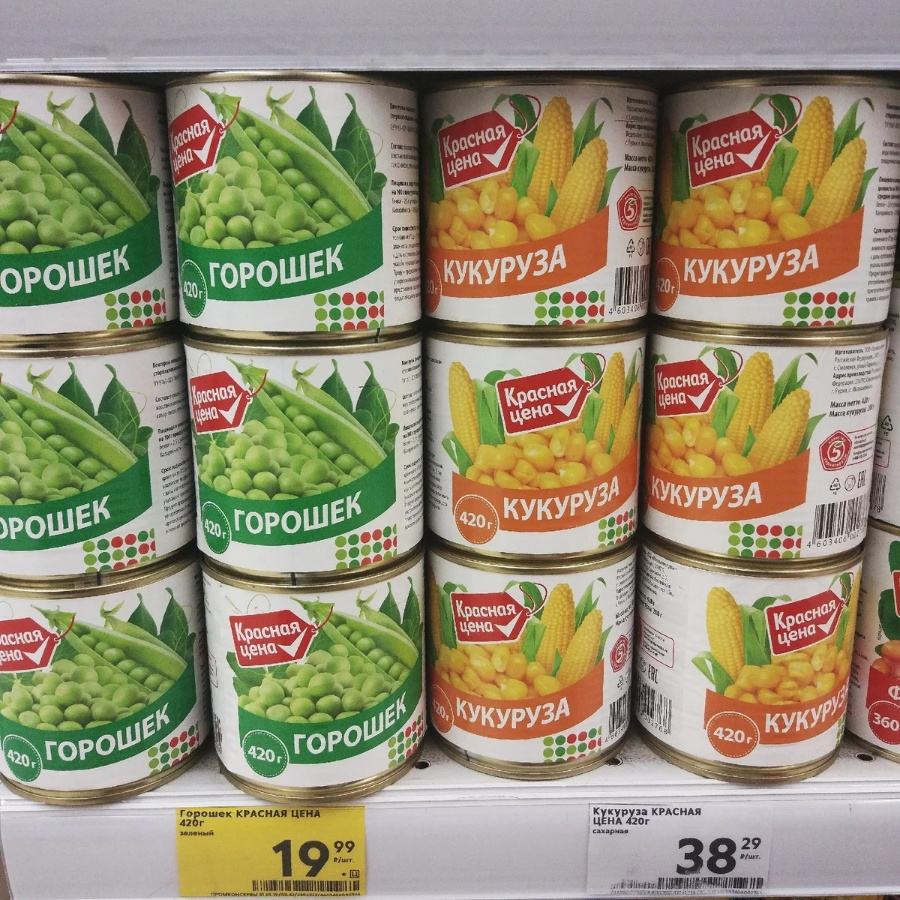peas: (162, 73, 455, 351), (181, 332, 442, 593), (208, 564, 471, 802), (1, 560, 234, 807)
